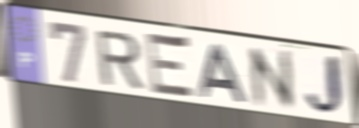7: (45, 18, 89, 86)
A: (198, 43, 250, 106)
E: (145, 29, 198, 104)
J: (302, 52, 348, 120)
N: (245, 44, 300, 111)
R: (94, 29, 146, 91)
